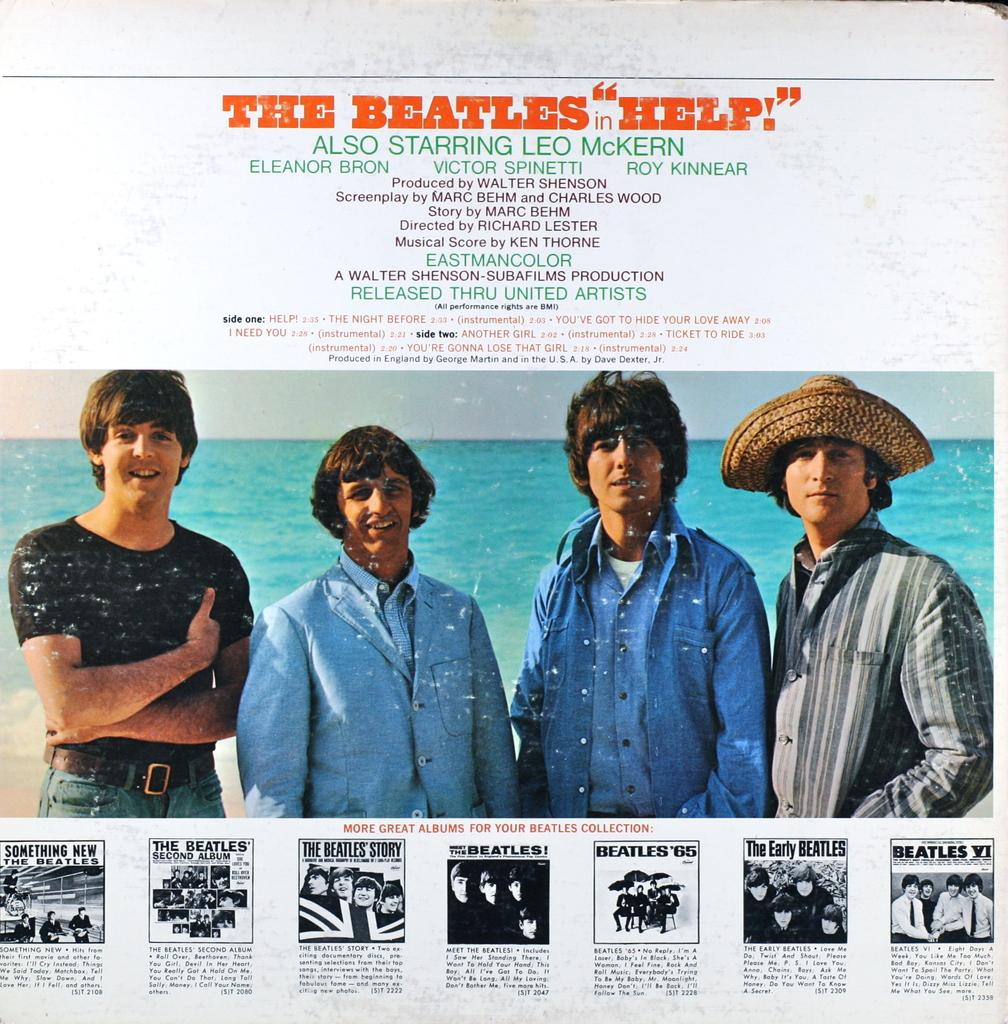Hat: (721, 377, 935, 493)
